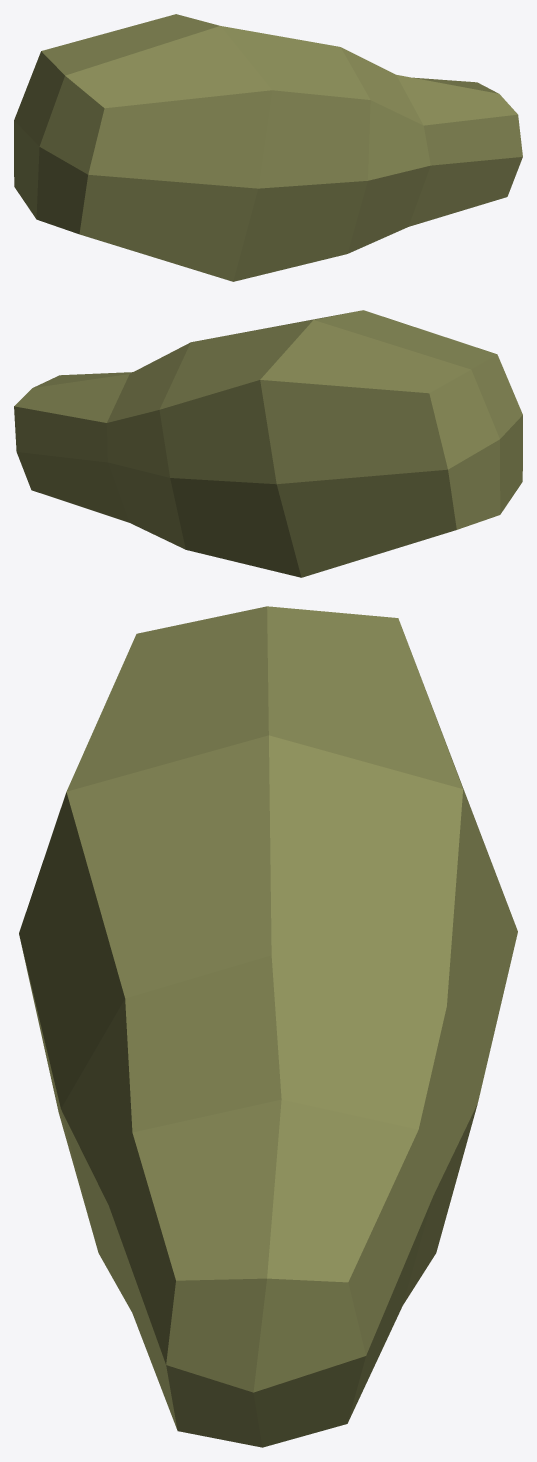
File: papaya.fbx
The picture shows the model from 3 angles, top to bottom: view 1: azimuth 30°, elevation 25°; view 2: azimuth 150°, elevation 25°; view 3: azimuth 270°, elevation 25°; orthographic projection. The views are drawn at different scales.
Parts seen in each view (by area): view 1: papaya; view 2: papaya; view 3: papaya.
Boxes of the visible parts, box(x1,y1,x2,y2) form: papaya: box(14, 14, 522, 281); papaya: box(14, 310, 522, 577); papaya: box(19, 606, 517, 1447).
Bounding box in the file's own units: 15.98 × 7.41 × 7.22.
1 material, 1 textured.
